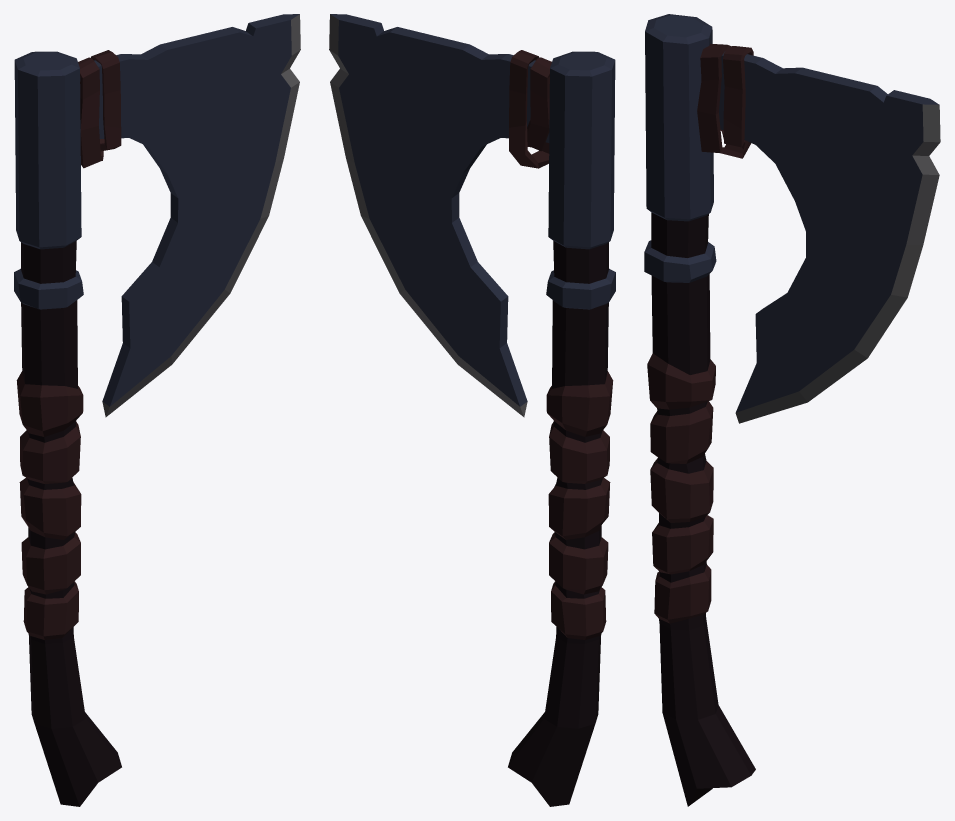
The model's file is Axe_small.obj.
3 views of the same model, side by side, from view 1: azimuth 30°, elevation 25°; view 2: azimuth 150°, elevation 25°; view 3: azimuth 330°, elevation 25° (orthographic). The views are drawn at different scales.
Visible parts, largest first — view 1: Axe_small_Cylinder.033; view 2: Axe_small_Cylinder.033; view 3: Axe_small_Cylinder.033.
Part boxes in pixels (x1,y1,x2,y2): Axe_small_Cylinder.033: [14, 14, 300, 806]; Axe_small_Cylinder.033: [329, 14, 615, 806]; Axe_small_Cylinder.033: [644, 14, 940, 806].
Bounding box in the file's own units: 0.3617 × 0.9132 × 0.0767.
